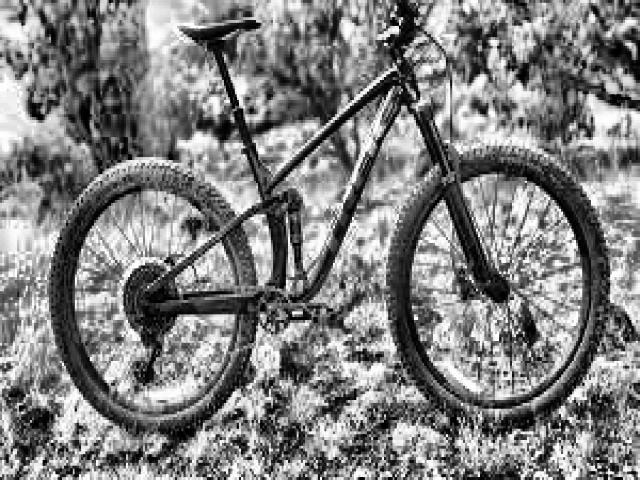cassette: (123, 260, 179, 338)
cranks_set: (257, 287, 331, 338)
rear_derailleur: (132, 314, 168, 391)
saddle: (179, 14, 261, 51)
wheel: (387, 141, 611, 430), (51, 161, 258, 439)
